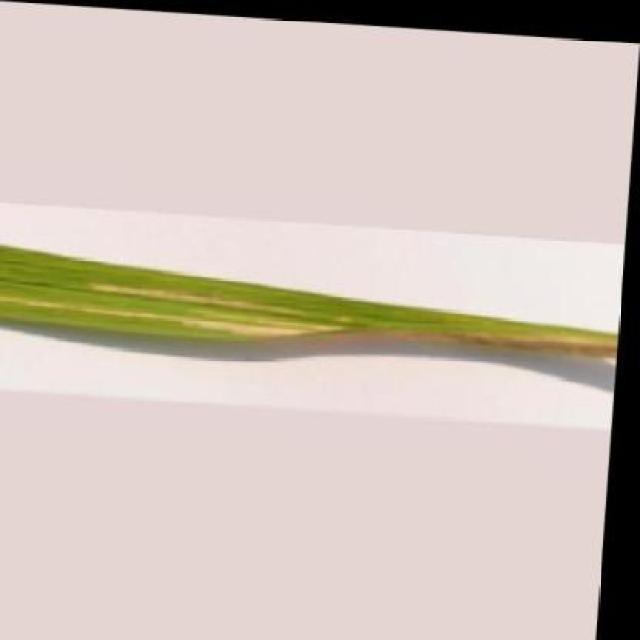Brown_Spot: (0, 228, 628, 366)
